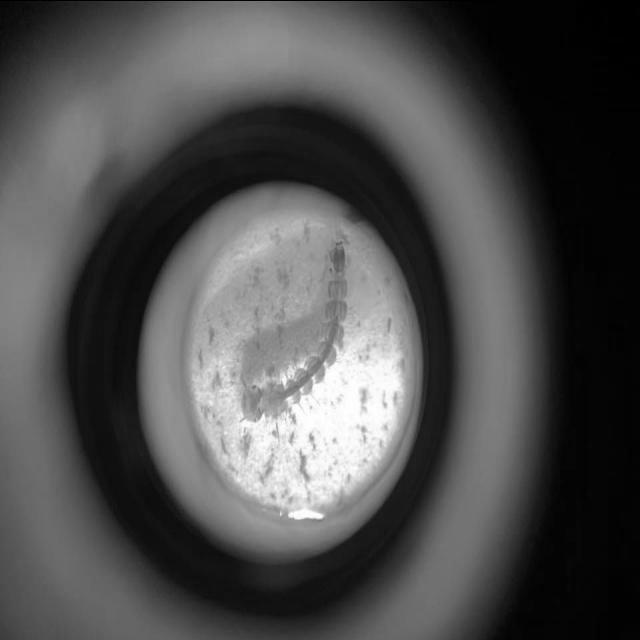larvas: (243, 233, 347, 420)
